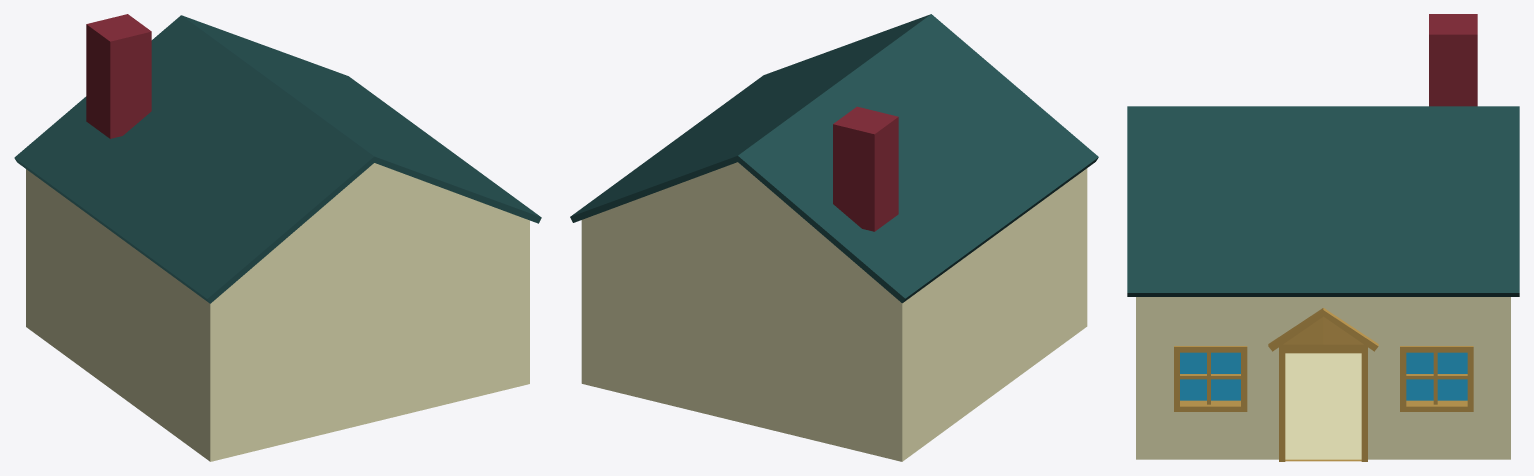
The model's file is gameHouse.fbx.
3 renders of one model, left to right at view 1: azimuth 30°, elevation 25°; view 2: azimuth 150°, elevation 25°; view 3: azimuth 270°, elevation 25°, orthographic.
Visible parts, largest first — view 1: House, Roof, Cube; view 2: House, Roof, Cube; view 3: Roof, House, Windows, Cube, DoorFrame, DoorRoof.
Boxes of the visible parts, bbox=[...] form: House: bbox=[26, 163, 529, 461]; Roof: bbox=[14, 15, 541, 303]; Cube: bbox=[86, 14, 151, 138]; House: bbox=[581, 162, 1087, 461]; Roof: bbox=[570, 14, 1098, 303]; Cube: bbox=[833, 106, 898, 231]; Roof: bbox=[1127, 106, 1519, 296]; House: bbox=[1136, 297, 1510, 459]; Windows: bbox=[1174, 346, 1473, 411]; Cube: bbox=[1429, 14, 1477, 106]; DoorFrame: bbox=[1279, 316, 1367, 461]; DoorRoof: bbox=[1268, 308, 1378, 351].
Bounding box in the file's own units: 2755 × 2755 × 2397.
